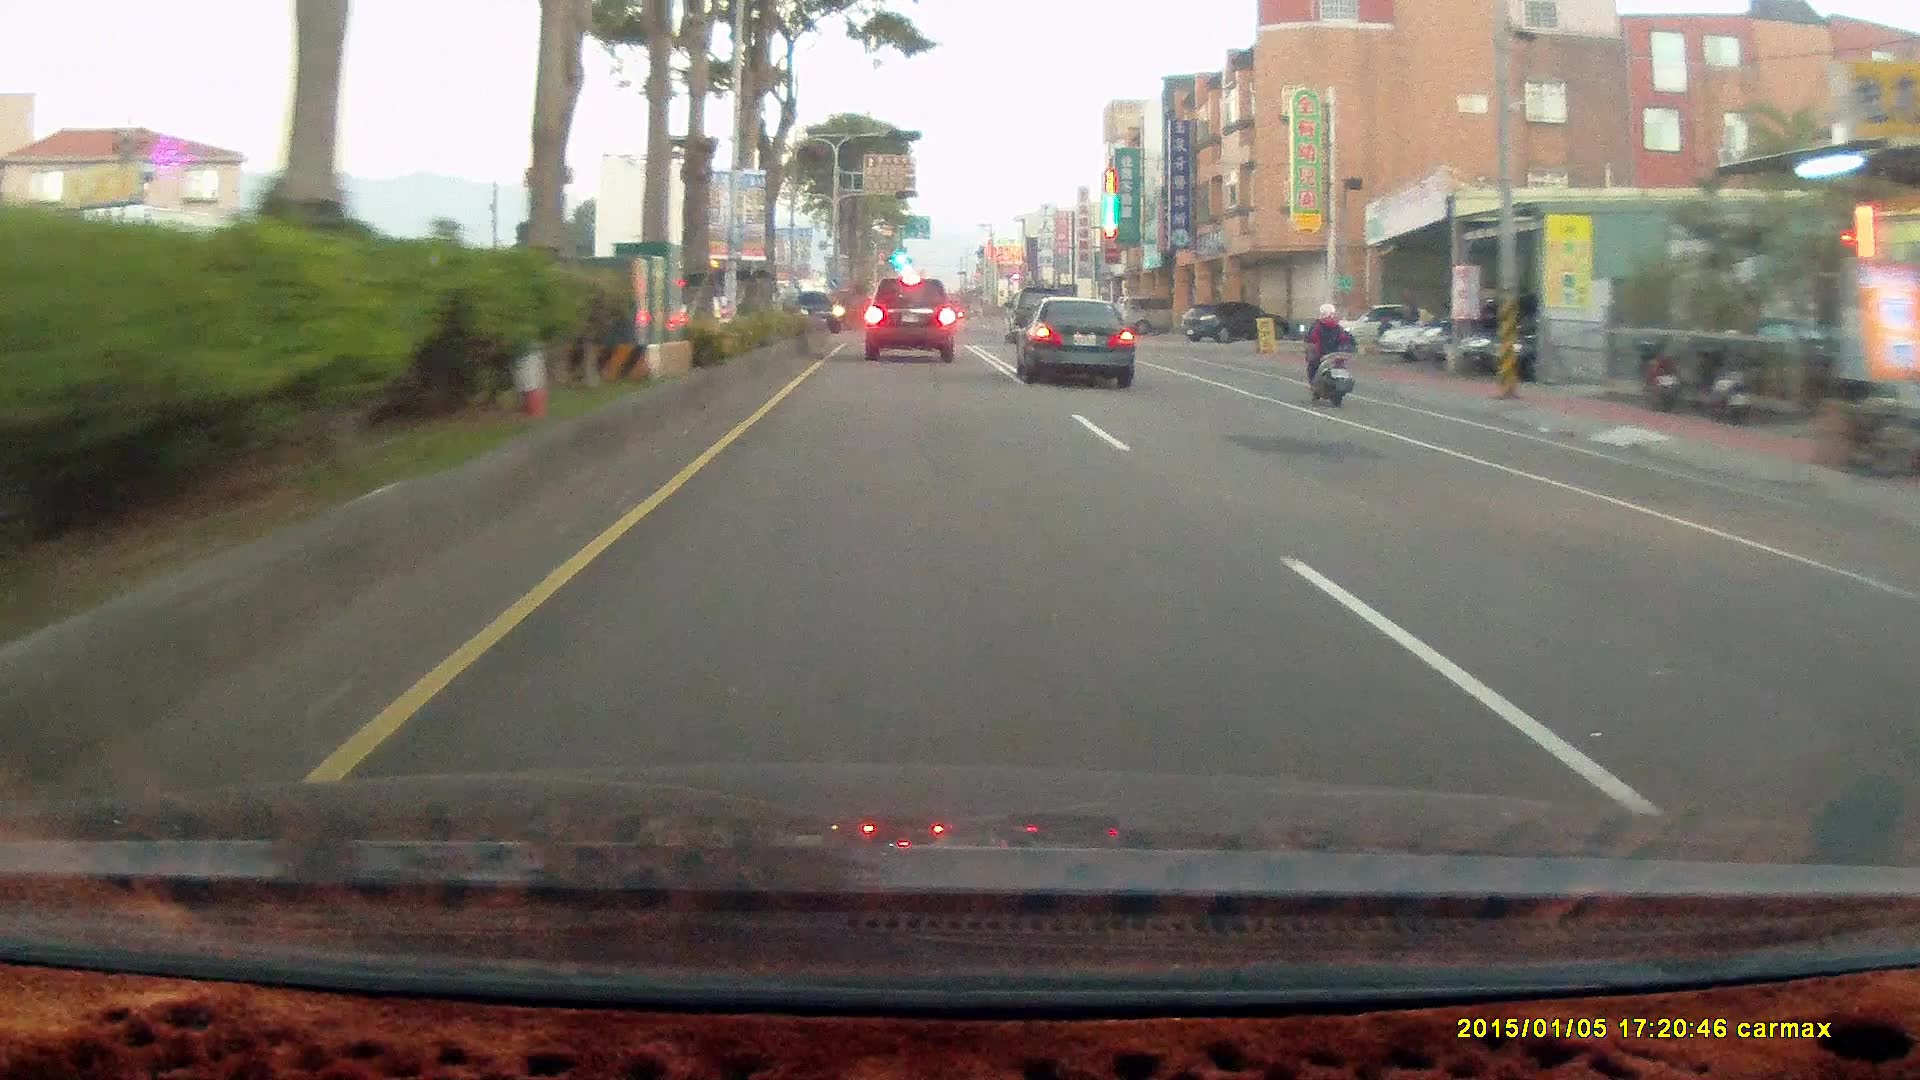rider: (1290, 291, 1370, 417), (1295, 298, 1353, 405)
vehicle: (1021, 290, 1140, 386), (1483, 308, 1641, 381), (1011, 294, 1132, 386), (1417, 293, 1549, 363), (1299, 297, 1452, 354), (868, 269, 962, 358), (862, 276, 953, 361), (1381, 307, 1493, 358), (1180, 300, 1289, 343), (1183, 300, 1277, 345), (1118, 292, 1198, 333), (784, 287, 843, 327)
